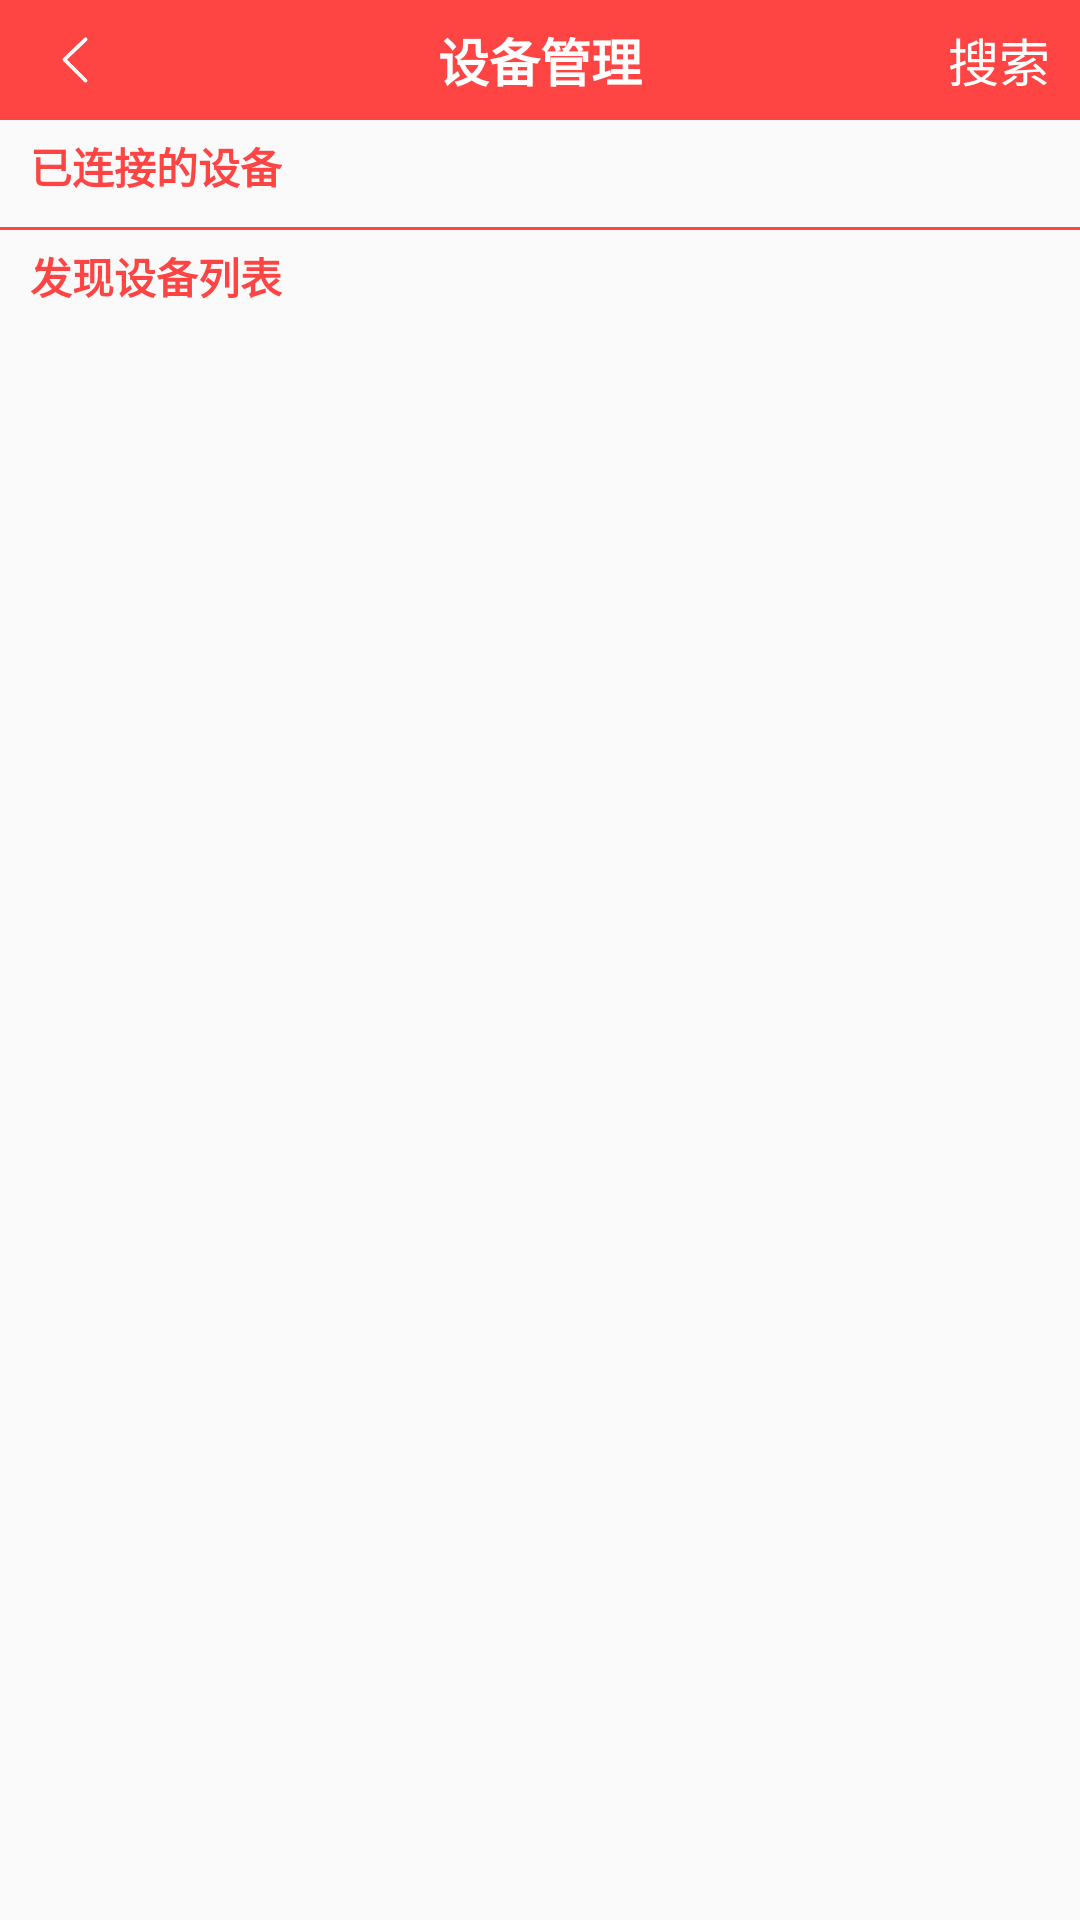

Icons on this 1080*1920 Android screen, each with the point to tap as (x=x, y=y):
back: (x=75, y=60)
